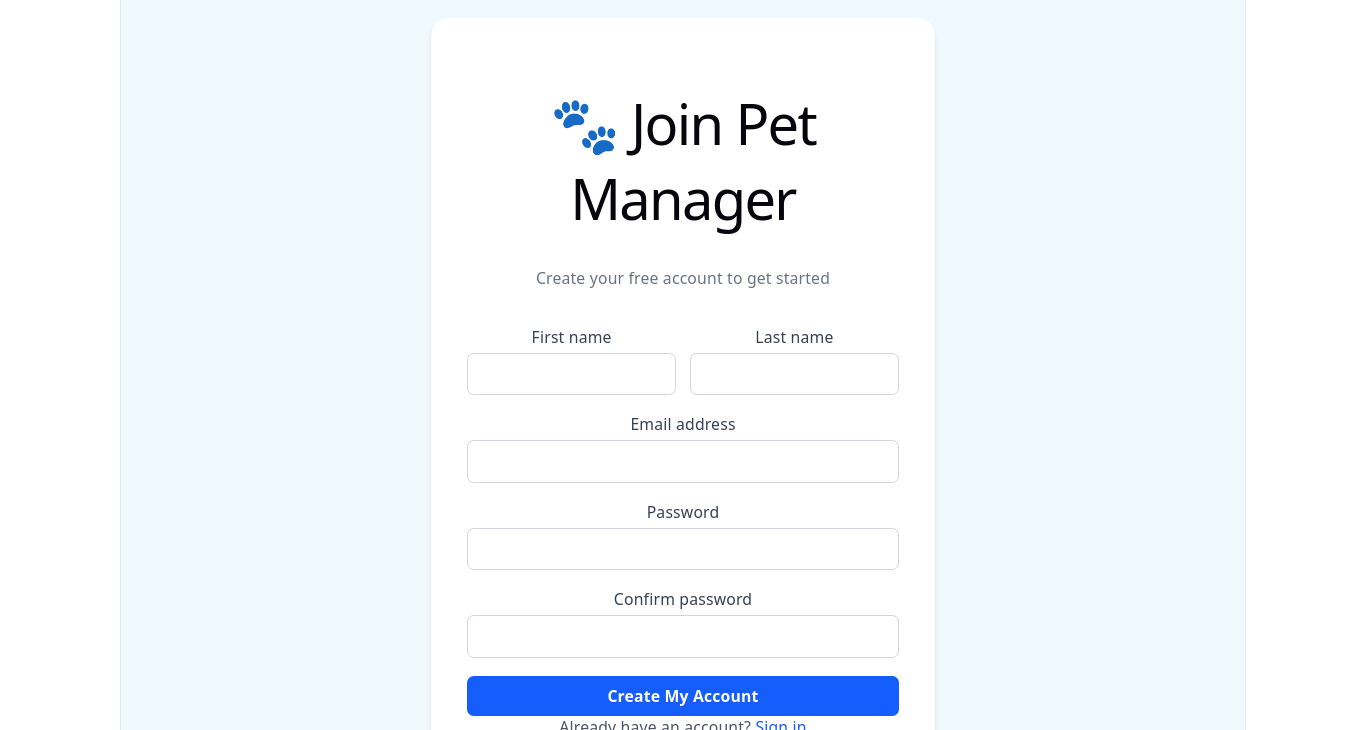
Test: RegisterPage › shows validation errors for empty form submission
The width and height of the screenshot is (1366, 730).
Click the button "Create My Account" at (683, 696), box [467,676,899,716]
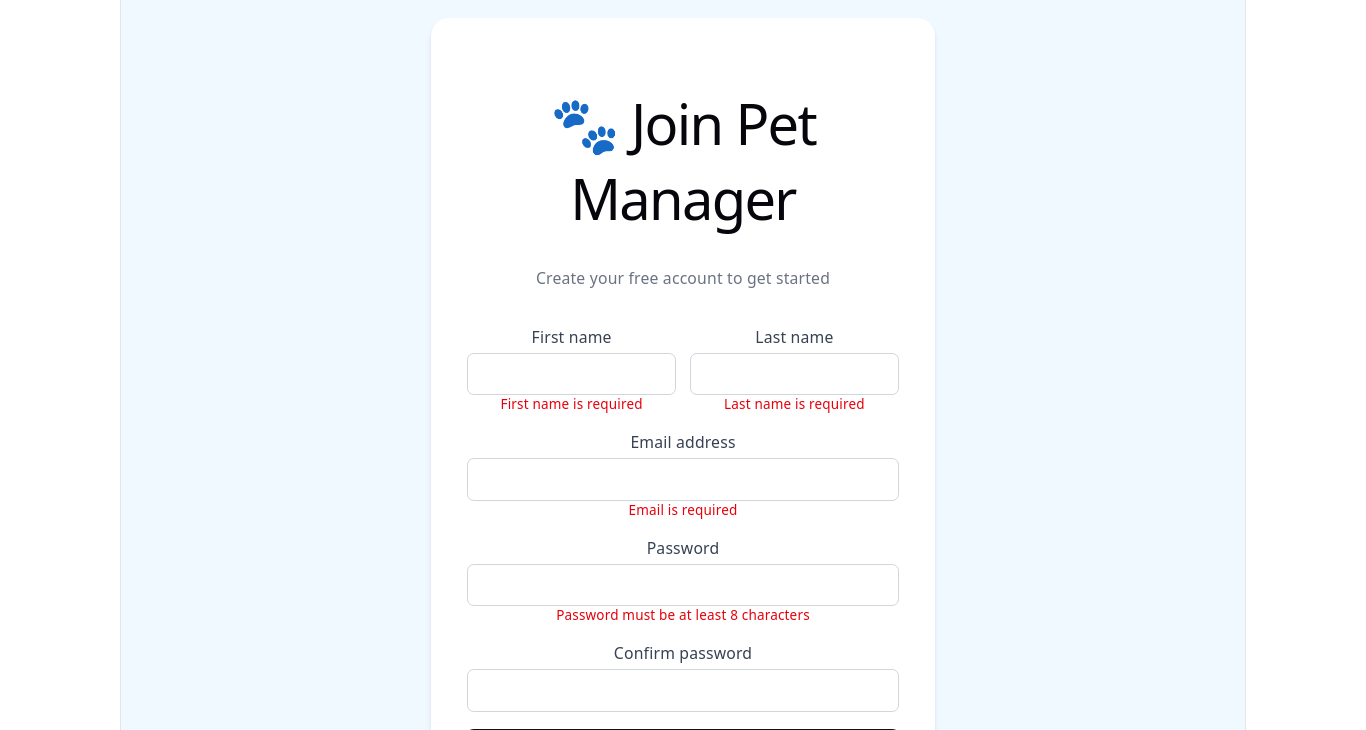
Expected: the text "First name is required" is shown, [500,395,643,413]
Expected: the text "Last name is required" is shown, [724,395,865,413]
Expected: the text "Email is required" is shown, [628,501,738,519]
